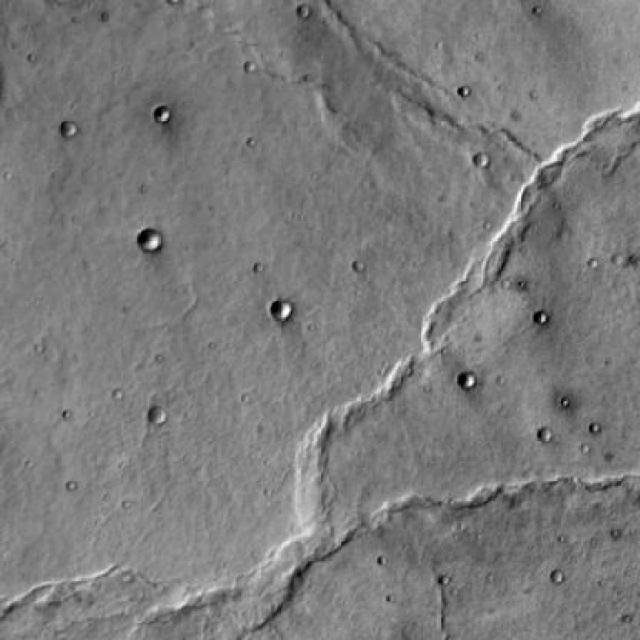crater: (140, 228, 162, 250), (271, 302, 292, 322), (150, 408, 168, 424), (64, 122, 81, 138), (159, 108, 176, 123)
